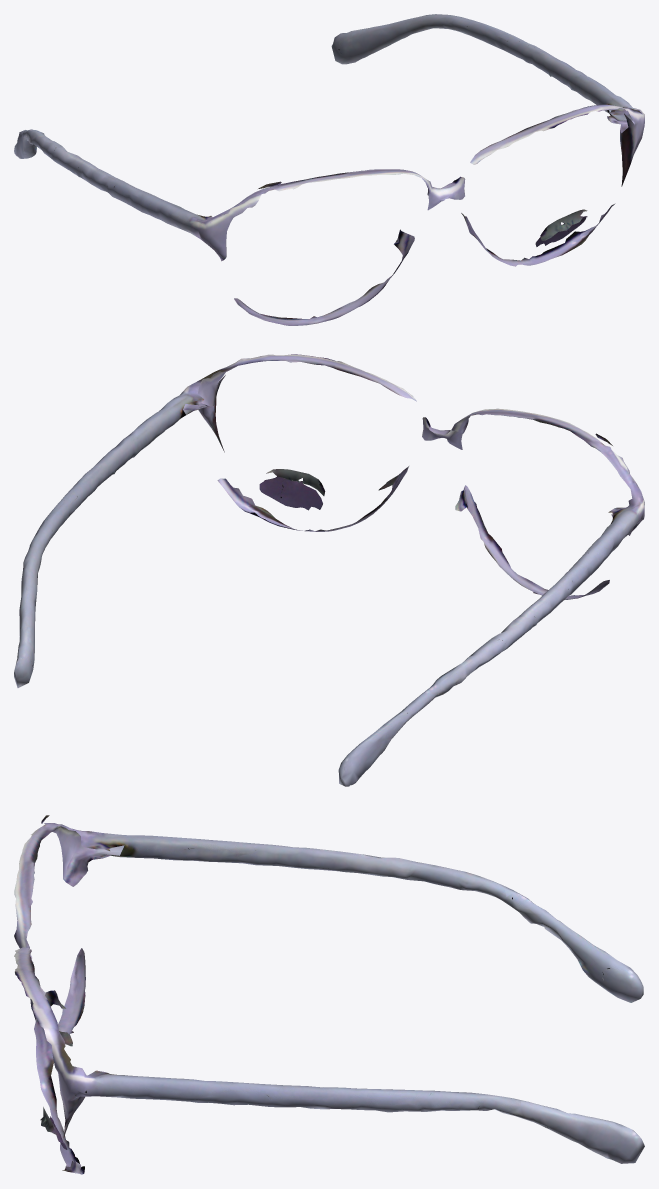
The model's file is scan_align.obj.
3 views of the same model, one above another, from view 1: azimuth 30°, elevation 25°; view 2: azimuth 150°, elevation 25°; view 3: azimuth 270°, elevation 25° (orthographic). The views are drawn at different scales.
Bounding box in the file's own units: 0.1406 × 0.0464 × 0.1422.
1 material, 1 textured.
